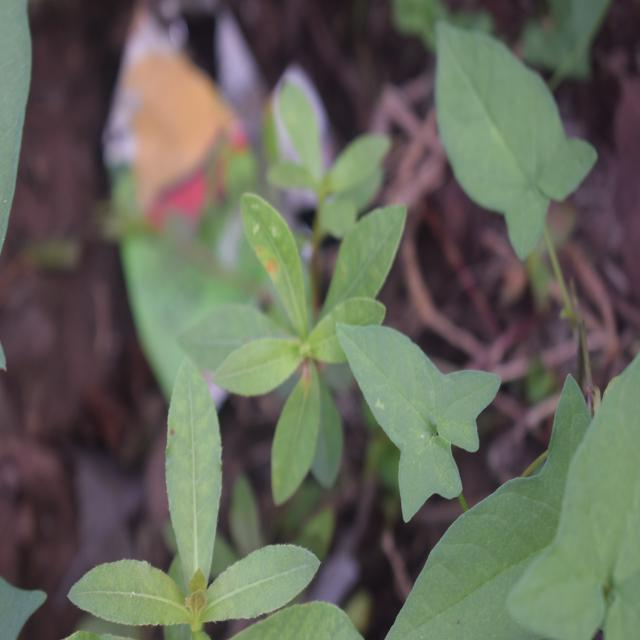Alligatorweed: (58, 362, 305, 632), (210, 173, 406, 490)
